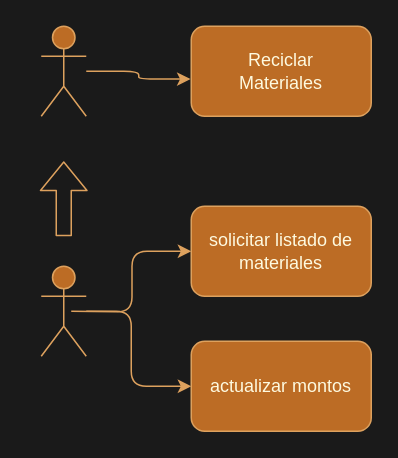
Some shapes in this 398 by 458 pixel diagram are drawn without their labels. Here are the shapes that lost their labels. From the top down, the centre of each, then its label:
At [63,70]: "Persona".
At [63,310]: "Operador".
